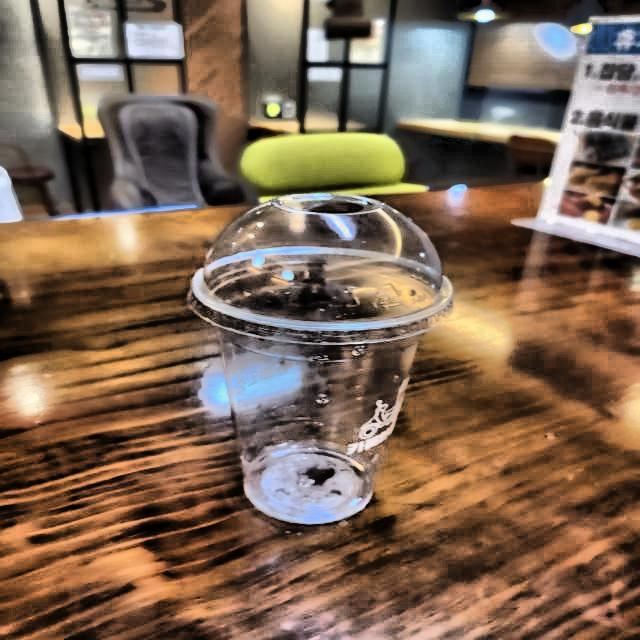plastic cup: (160, 161, 489, 568)
